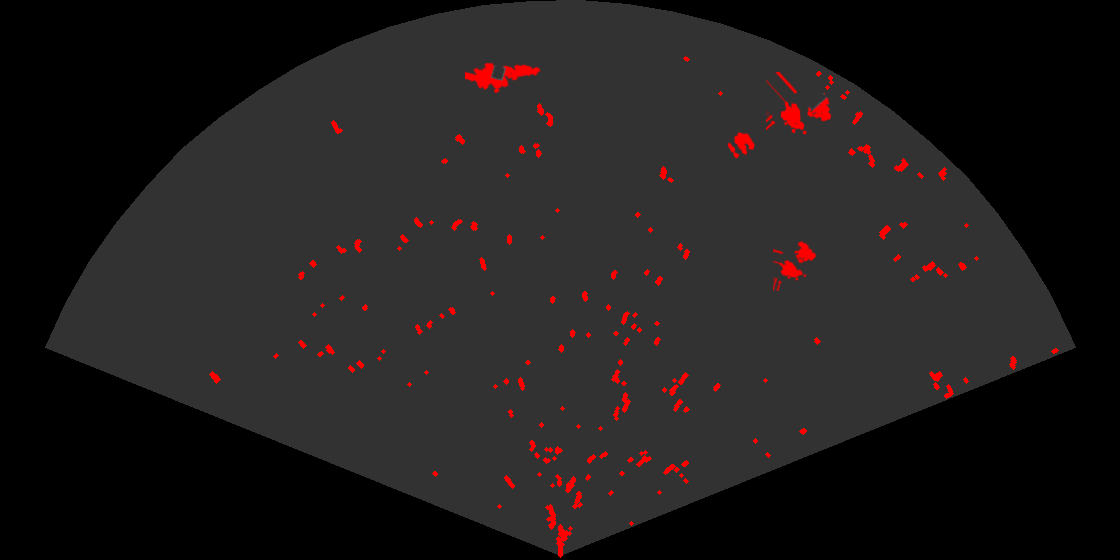ball: (726, 131, 756, 160)
cage: (766, 72, 833, 136), (773, 239, 818, 291)
frogman: (465, 61, 542, 95)
